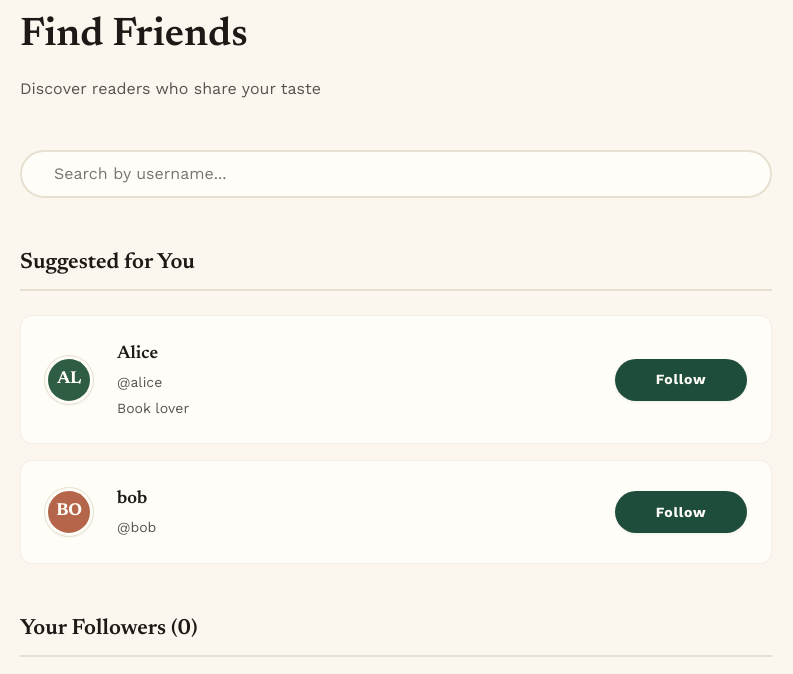
it: FindFriends page › hides sections when searching
The width and height of the screenshot is (793, 674).
Expected: the text "Alice" is shown, [117,345,158,363]
Type "test" into the field with placeholder "Search by username..." at point(396, 174), box [20,150,772,198]
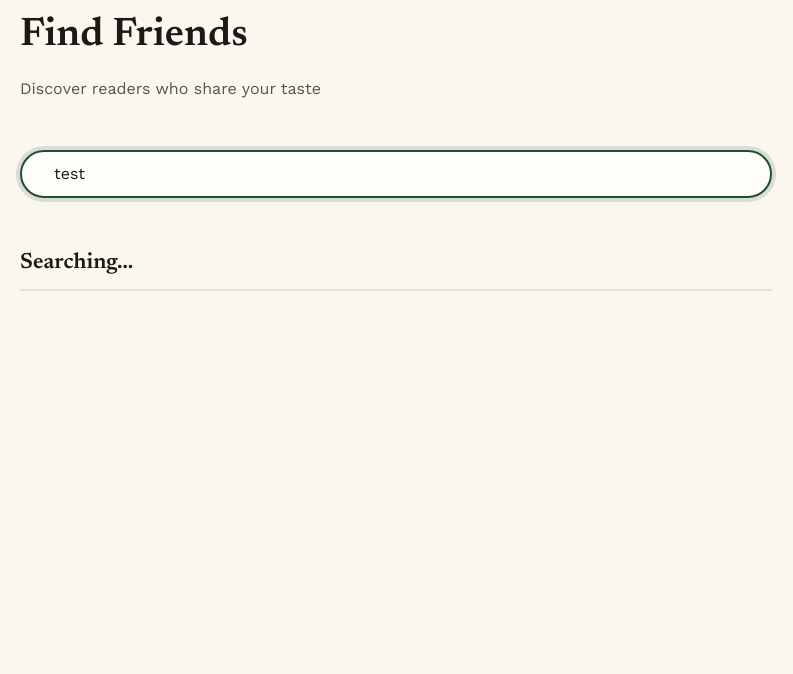
Expected: the heading "Suggested for You" is gone
